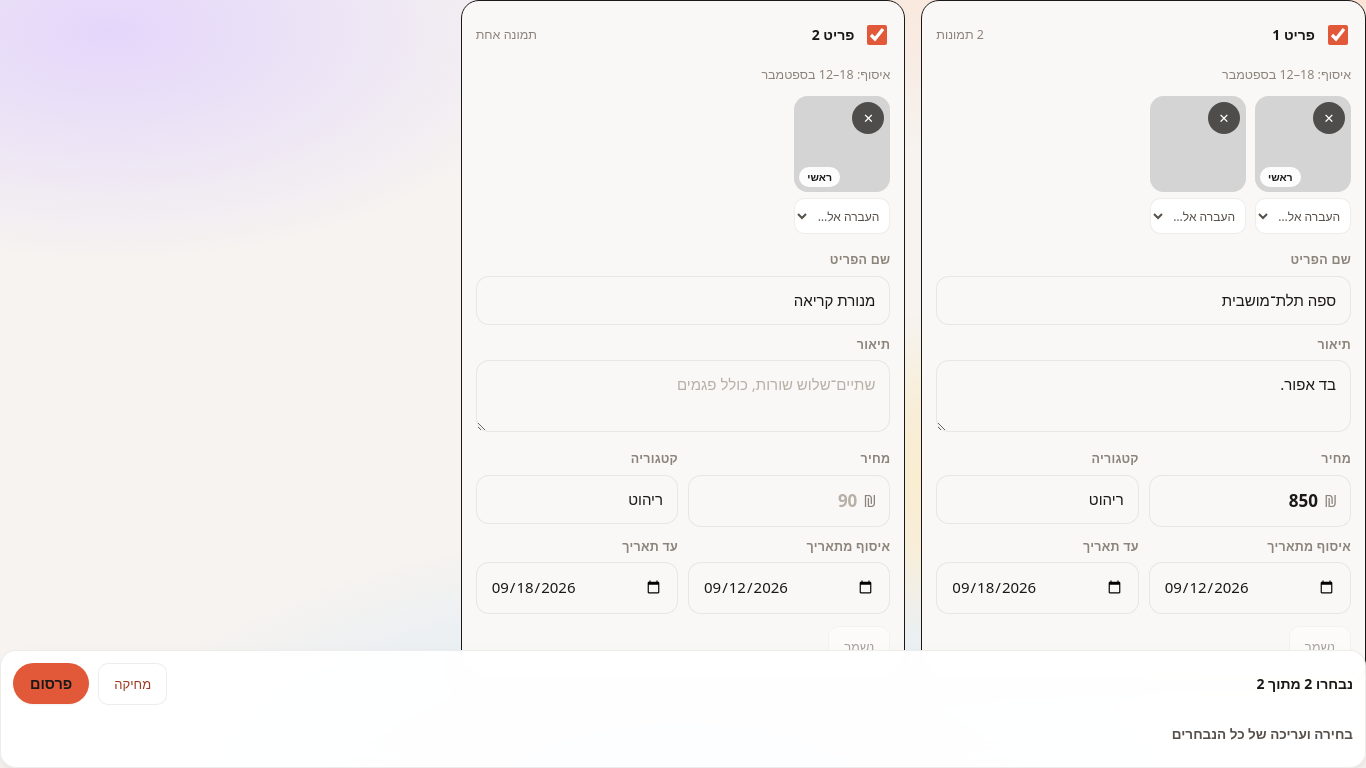
Test: the import review screen › moves a photo to another item of the batch
Select "פריט 2 · מנורת קריאה" in the 3rd dropdown named "העברת התמונה לפריט" at coordinates (1303, 216), box [1255,198,1351,234]
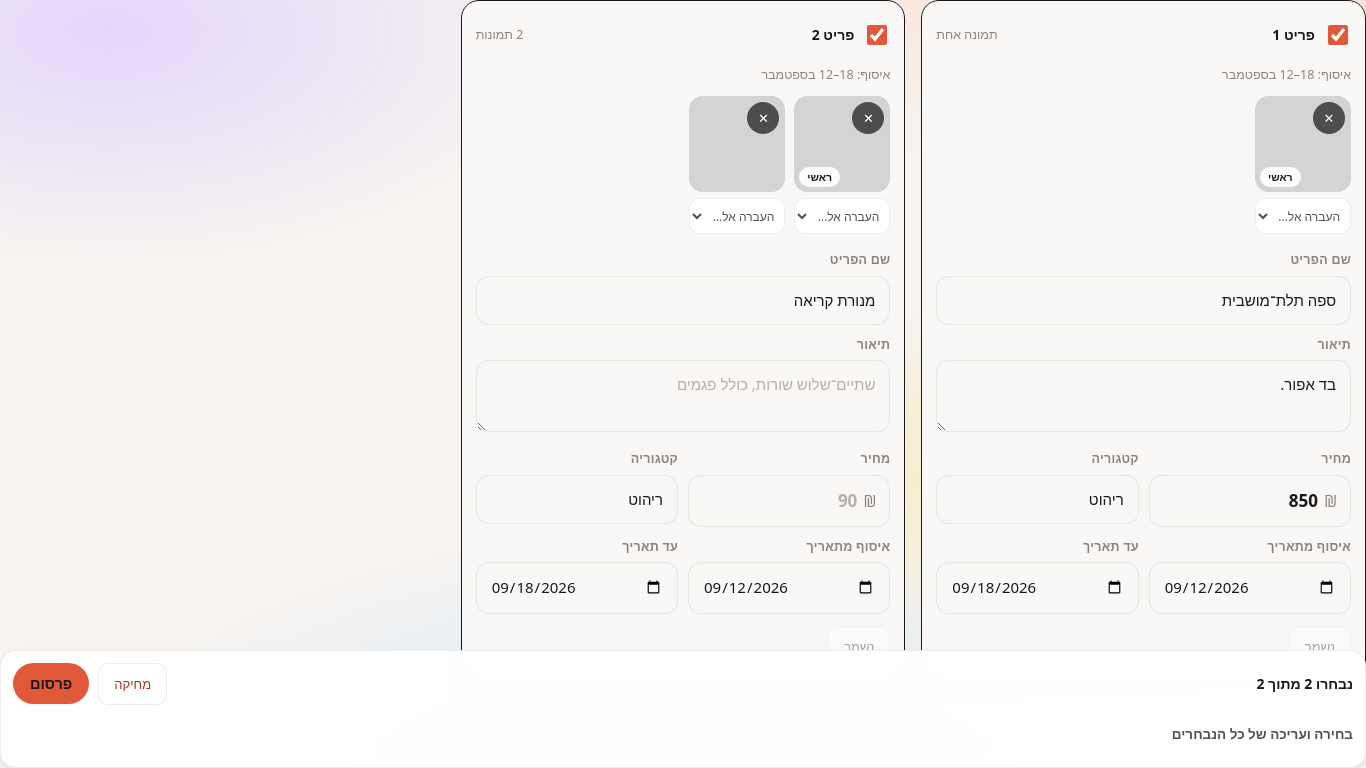
expect the text "תמונה אחת" is shown: met, box [936,25,998,45]
